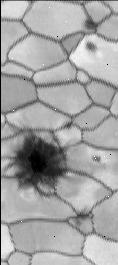good_void: (11, 130, 67, 194), (67, 203, 94, 226), (78, 14, 102, 32), (79, 37, 98, 56), (61, 116, 76, 130), (89, 151, 104, 163)
